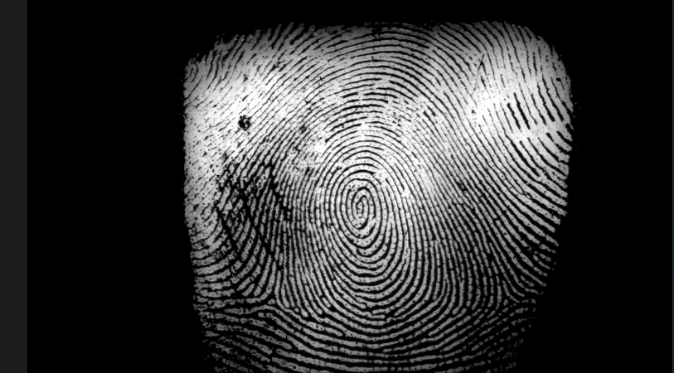deltas: (243, 269, 300, 320), (483, 271, 527, 320)
nucleo: (339, 176, 379, 229)
